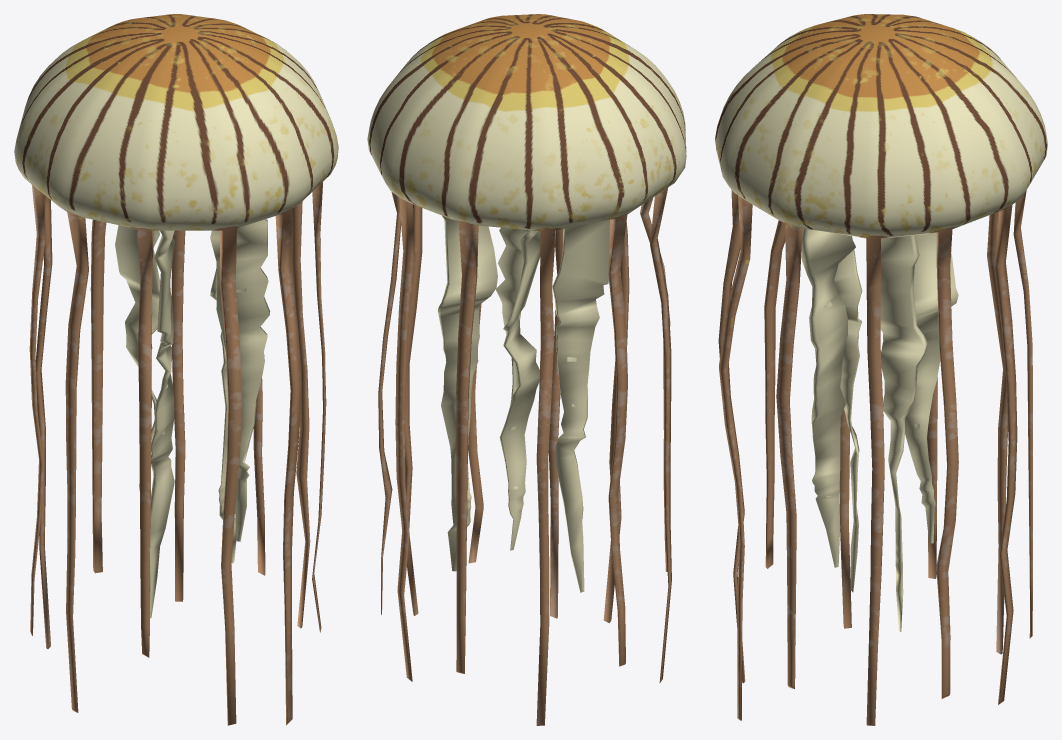
Rendered from chyrsaoraMela00.fbx.
The picture shows the model from 3 angles, left to right: view 1: azimuth 30°, elevation 25°; view 2: azimuth 150°, elevation 25°; view 3: azimuth 270°, elevation 25°; orthographic projection. The views are drawn at different scales.
Visible parts, largest first — view 1: chrysaoraMelanaster_final; view 2: chrysaoraMelanaster_final; view 3: chrysaoraMelanaster_final.
Boxes of the visible parts, x1,y1,x2,y2 form: chrysaoraMelanaster_final: (14, 14, 338, 725); chrysaoraMelanaster_final: (367, 14, 686, 725); chrysaoraMelanaster_final: (715, 14, 1047, 725).
Bounding box in the file's own units: 3.11 × 6.94 × 3.13.
Materials: 1 (1 with a texture image).
